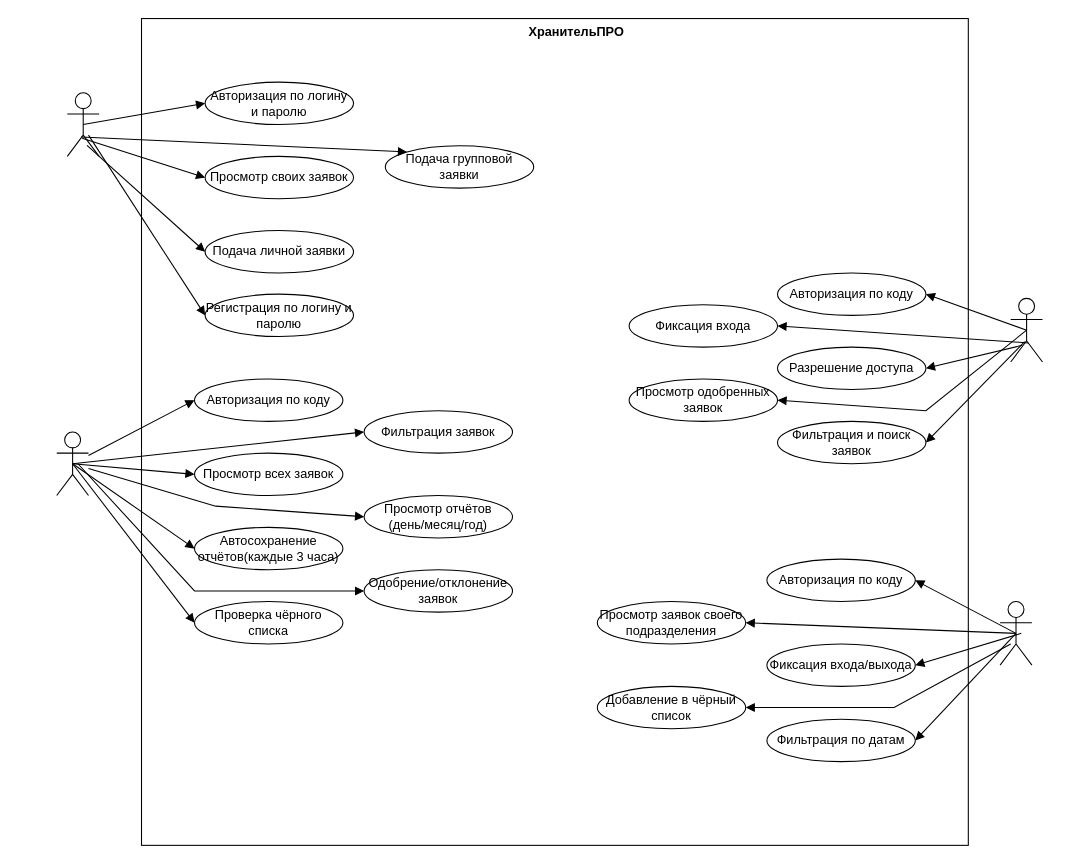
Some shapes in this 1079 by 864 pixel diagram are drawn without their labels. Each missing label, with the centre of its shape:
Пользователь: (x=82, y=124)
Сотрудник общего отдела: (x=72, y=463)
Сотрудник охраны: (x=1026, y=329)
Сотрудник подразделения: (x=1015, y=632)
